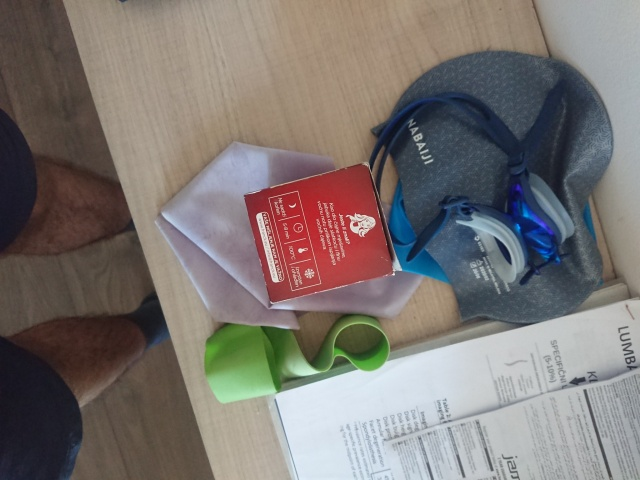Franck Apple Cinnamon Tea 60g: (240, 159, 404, 305)
